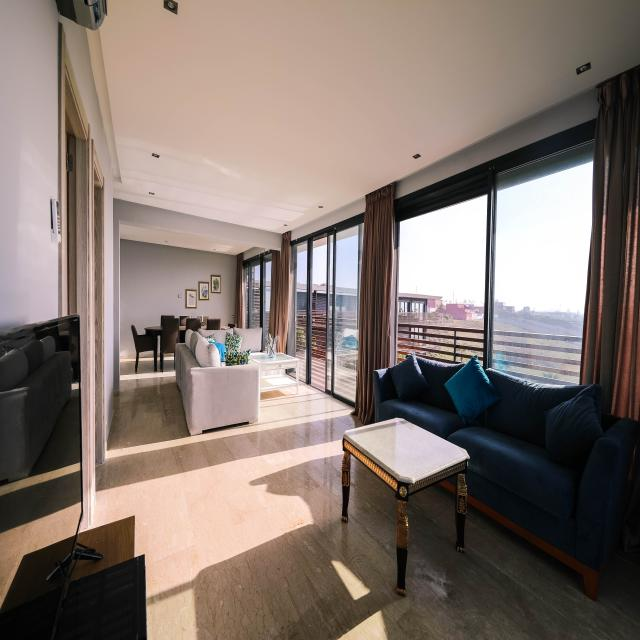floor: (80, 357, 640, 640)
wall: (113, 198, 283, 397), (394, 86, 600, 200), (120, 239, 238, 360), (290, 195, 366, 241), (199, 282, 210, 301), (211, 275, 221, 294), (139, 351, 154, 358), (157, 336, 160, 357), (164, 353, 174, 357)
